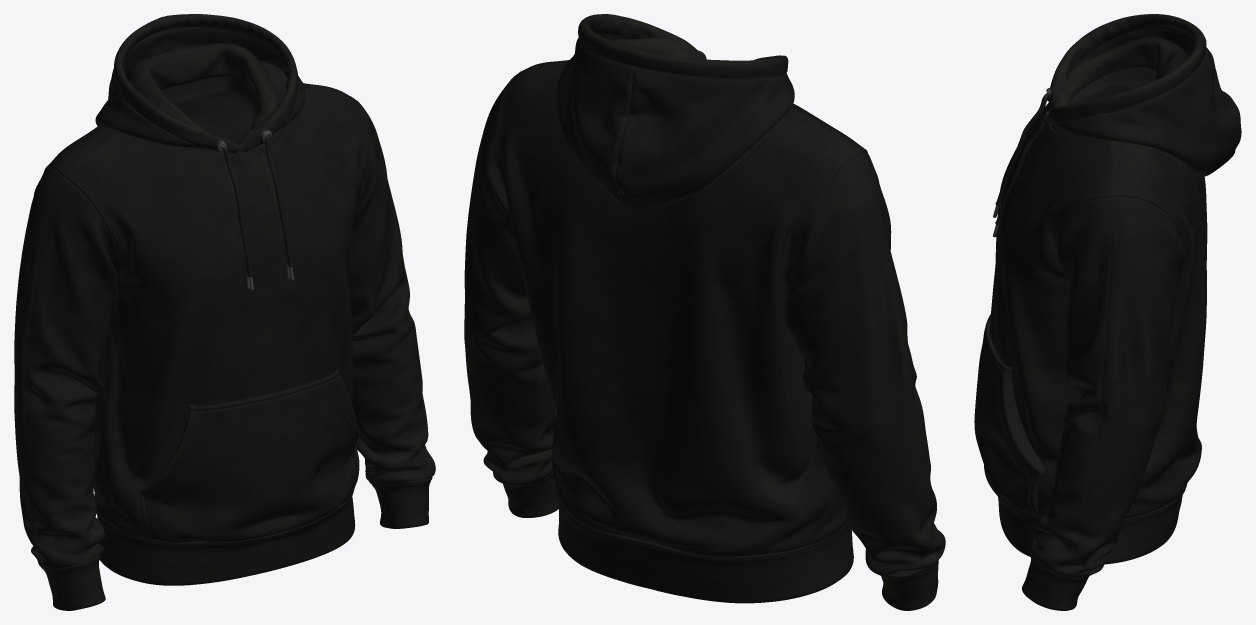
File: product-2.glb
3 renders of one model, left to right at view 1: azimuth 30°, elevation 25°; view 2: azimuth 150°, elevation 25°; view 3: azimuth 270°, elevation 25°, orthographic. The views are drawn at different scales.
Bounding box in the file's own units: 1.58 × 1.9 × 0.9439.
1 material, 1 textured.
